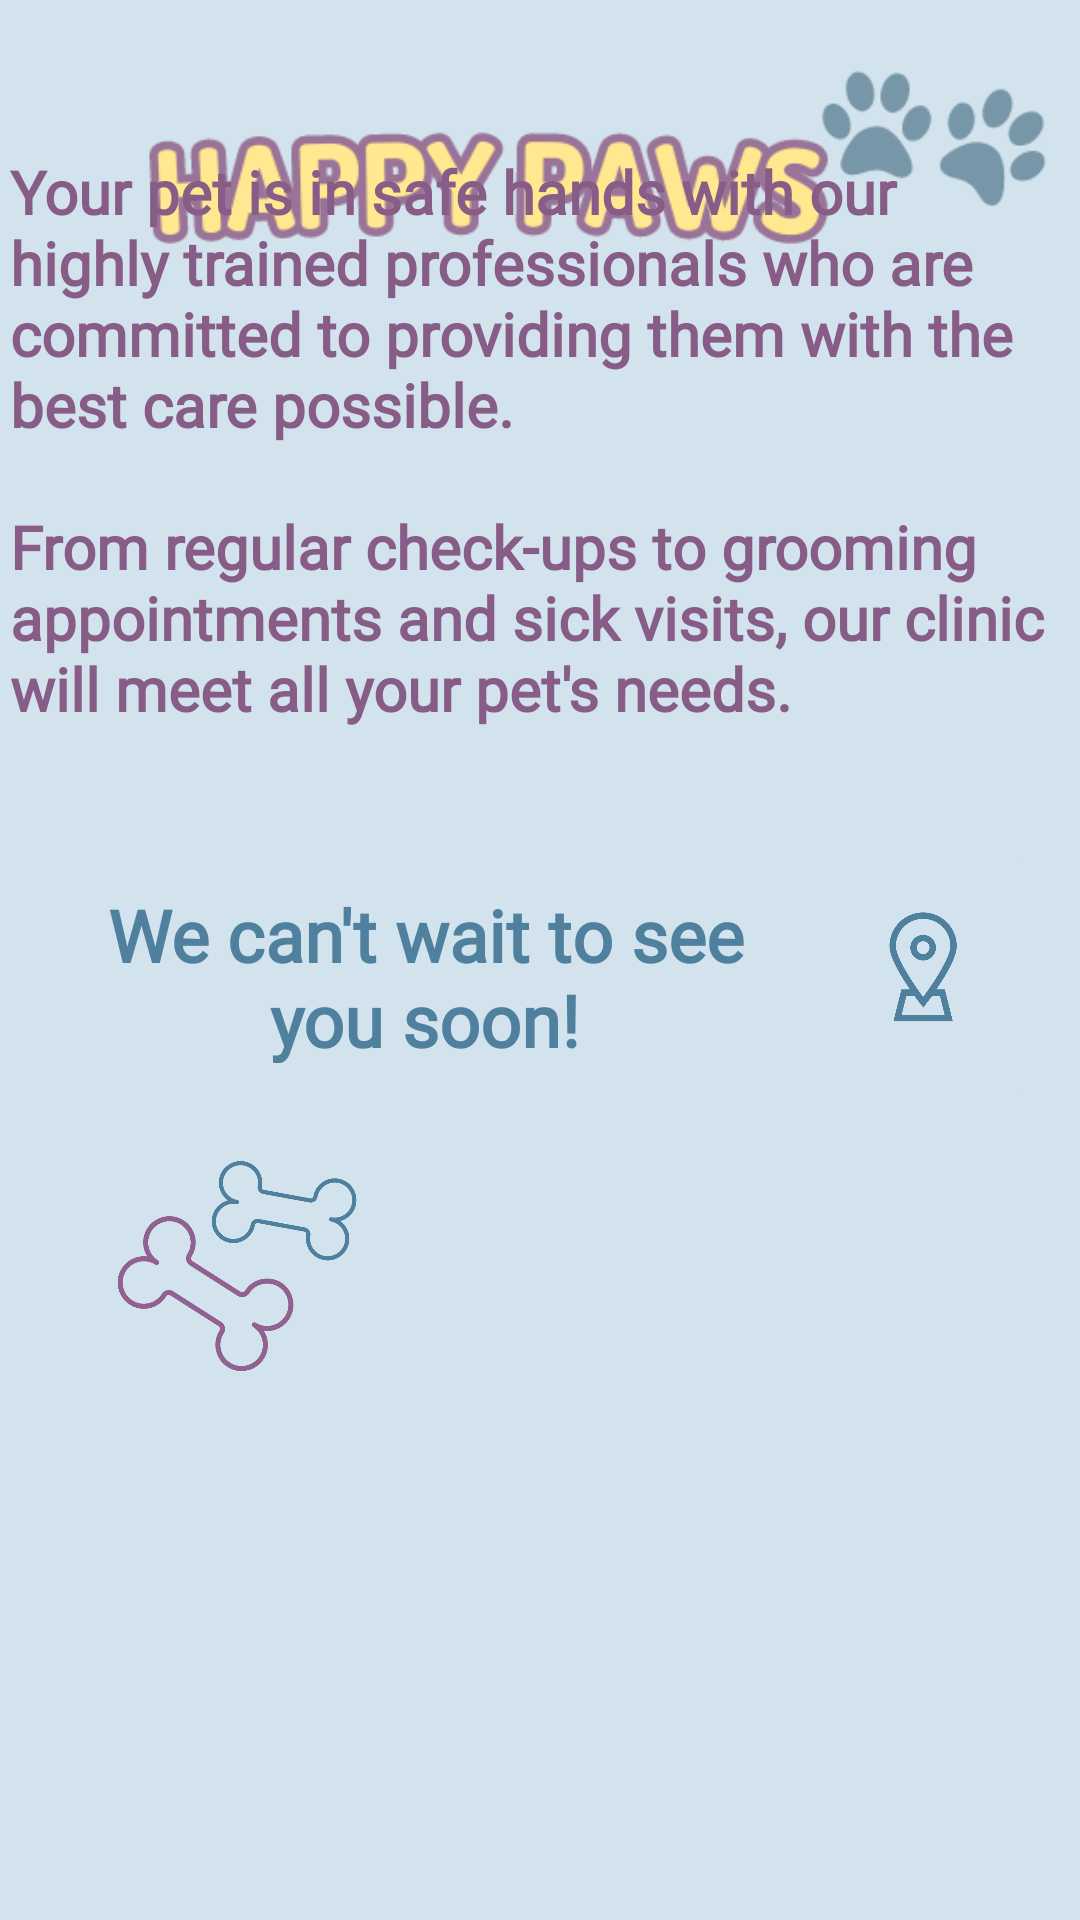

Screen size 1080 x 1920. Icon name, then its center in pixels as [x,y]:
Bones cartoon image: [237,1266]
Map icon: [923,966]
